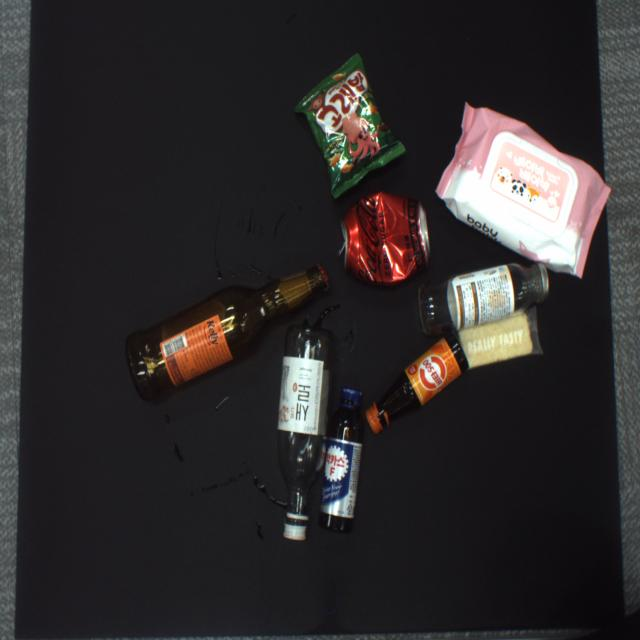beer-bottle: (124, 266, 327, 401)
soju-bottle: (277, 327, 334, 540)
